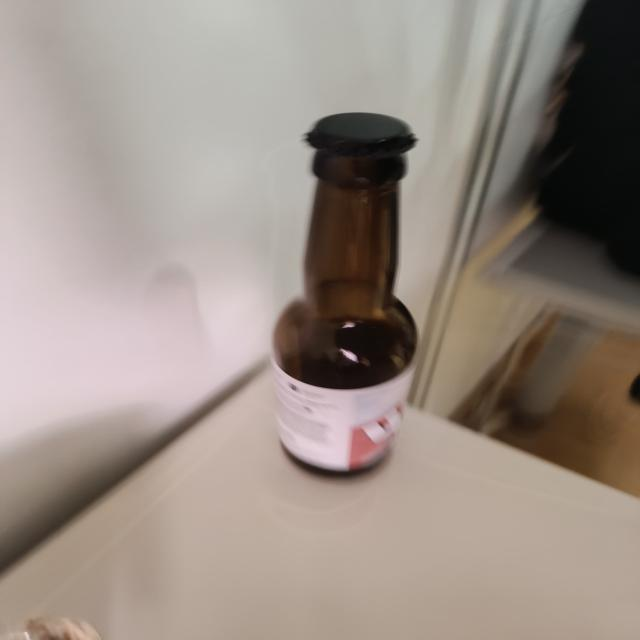Bottle: (269, 113, 420, 480)
Cap: (300, 111, 418, 158)
Label: (273, 364, 406, 472)
